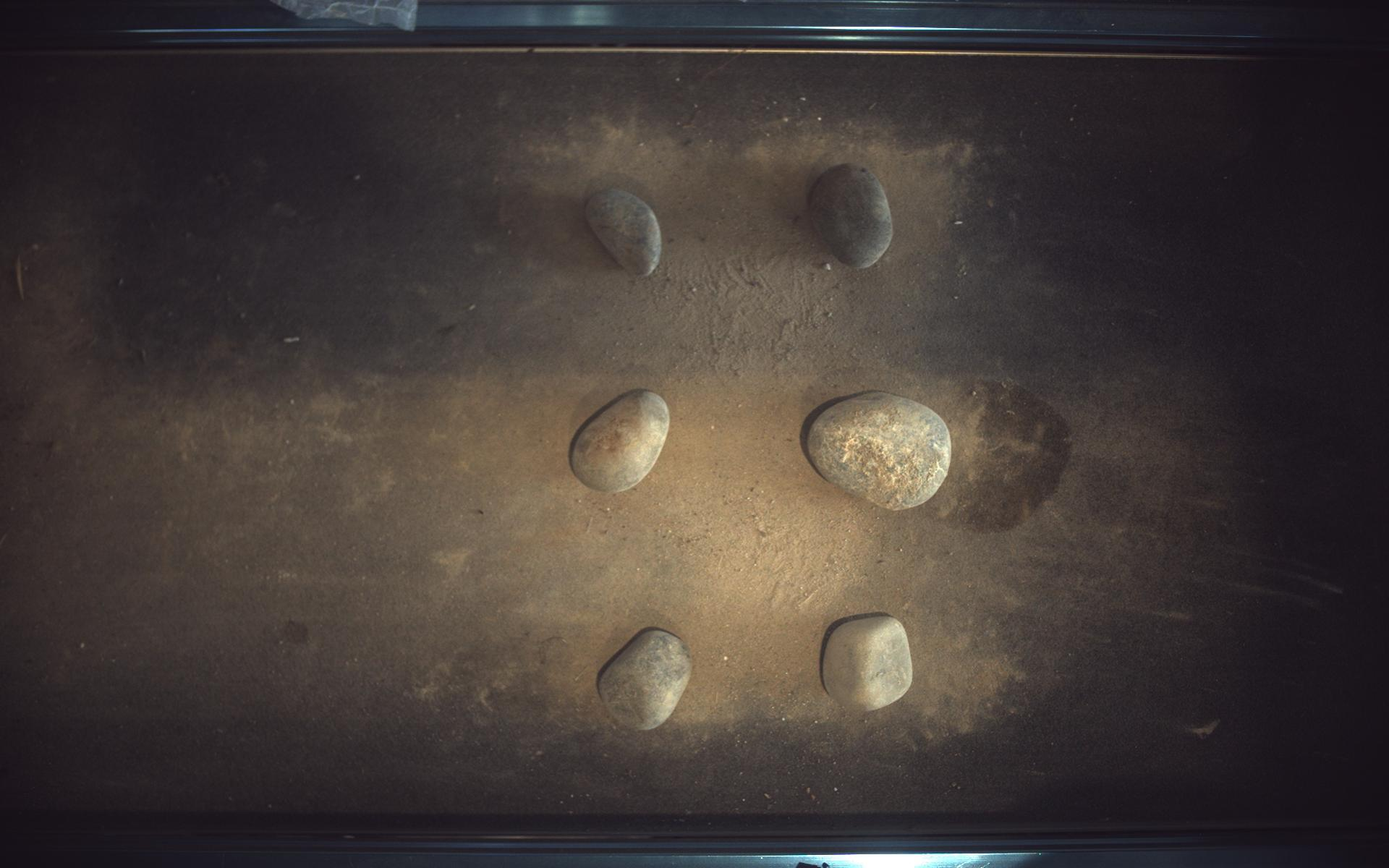stone: (809, 392, 953, 511), (572, 390, 671, 493), (598, 629, 692, 731), (810, 163, 895, 268), (824, 616, 914, 712), (586, 188, 662, 276)
